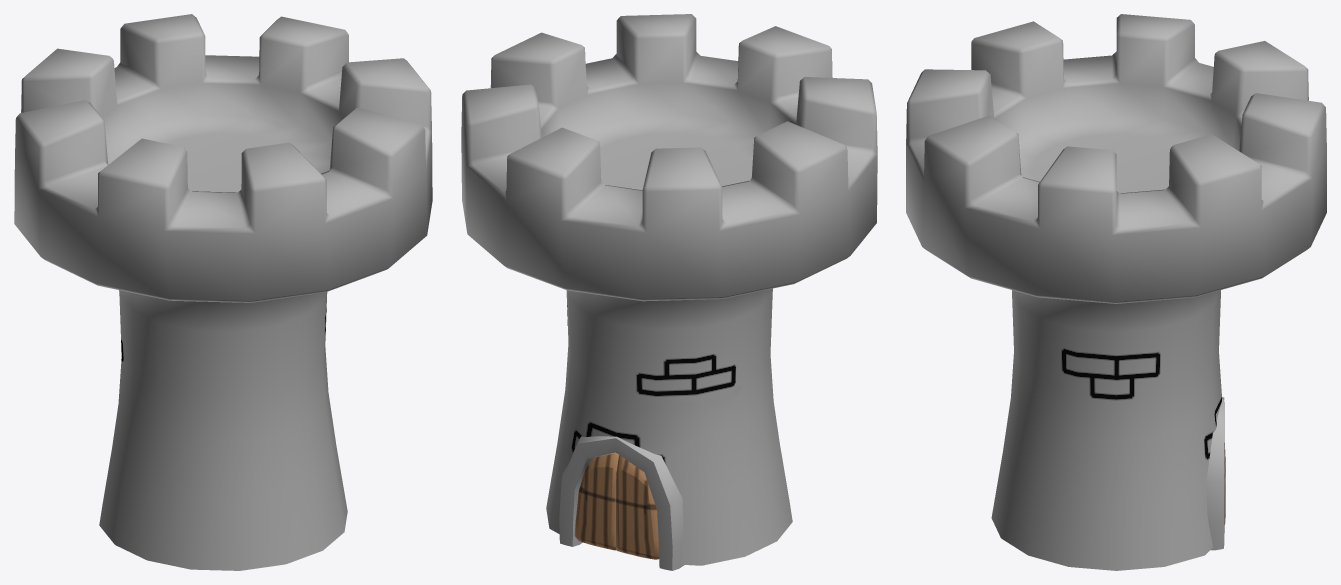
The model's file is Tower.fbx.
The picture shows the model from 3 angles, left to right: view 1: azimuth 30°, elevation 25°; view 2: azimuth 150°, elevation 25°; view 3: azimuth 270°, elevation 25°; orthographic projection.
Visible parts, largest first — view 1: TowerLarger; view 2: TowerLarger; view 3: TowerLarger.
Part boxes in pixels (x1,y1,x2,y2): TowerLarger: (14, 14, 432, 570); TowerLarger: (461, 14, 877, 570); TowerLarger: (906, 14, 1326, 570).
Bounding box in the file's own units: 6.65 × 6.65 × 7.51.
1 material, 1 textured.
